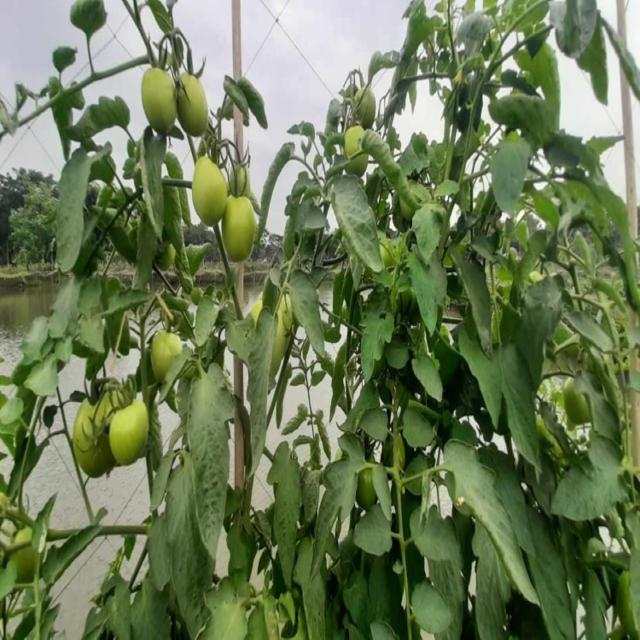tomato: (69, 390, 114, 482), (105, 393, 152, 465), (173, 69, 217, 142), (220, 195, 264, 262), (192, 154, 229, 226), (143, 64, 178, 131), (148, 327, 182, 374), (567, 380, 595, 424), (274, 310, 294, 368), (354, 468, 376, 514), (340, 131, 365, 170), (232, 165, 253, 193), (529, 266, 550, 288), (365, 94, 378, 128), (11, 526, 35, 543)
